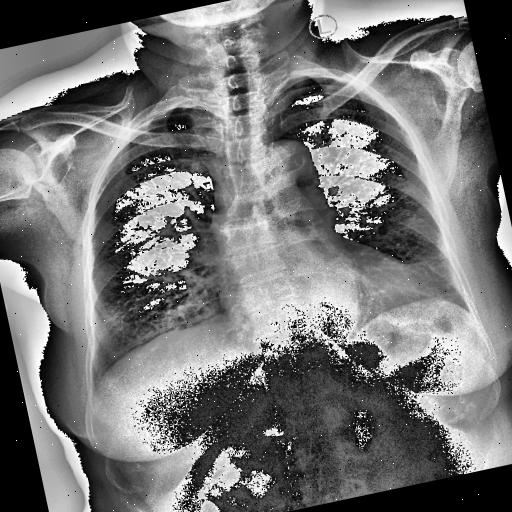0- Aortic enlargement: (236, 126, 340, 226)
11- Pleural thickening: (392, 243, 472, 319)
2- Calcification: (274, 142, 316, 184), (286, 146, 316, 177)
7- Lung Opacity: (368, 236, 470, 332), (390, 239, 474, 320)
